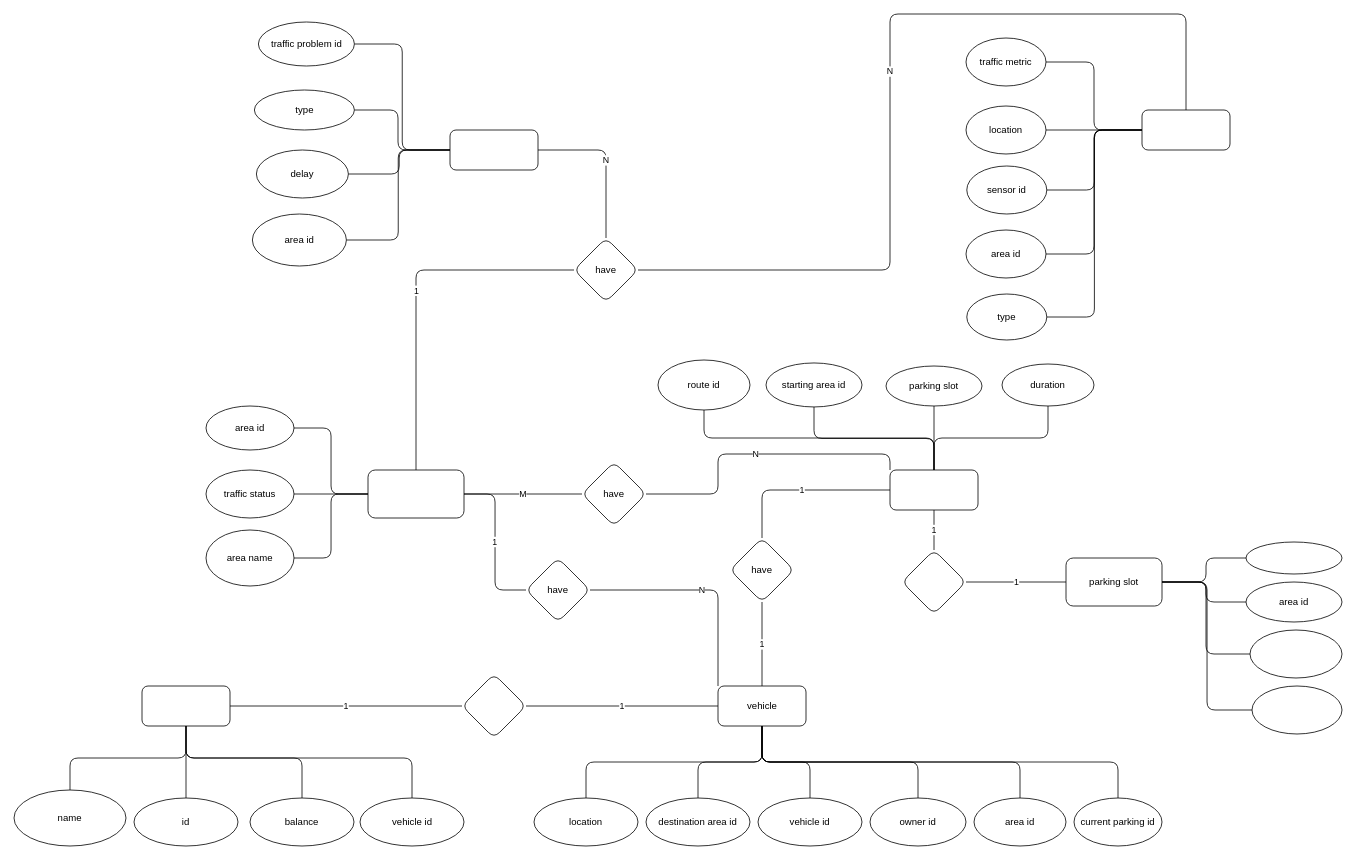
The diagram is 1356 pixels wide and 860 high, and some of its shapes have lost their labels. Each missing label, with the box of its shape:
area: (367, 469, 464, 518)
has: (901, 549, 966, 614)
owner: (461, 673, 526, 738)
parked car id: (1251, 685, 1342, 734)
parking slot id: (1249, 629, 1342, 678)
route: (889, 469, 978, 510)
sensors: (1141, 109, 1230, 150)
state: (1245, 541, 1342, 574)
traffic problem: (449, 129, 538, 170)
user: (141, 685, 230, 726)
